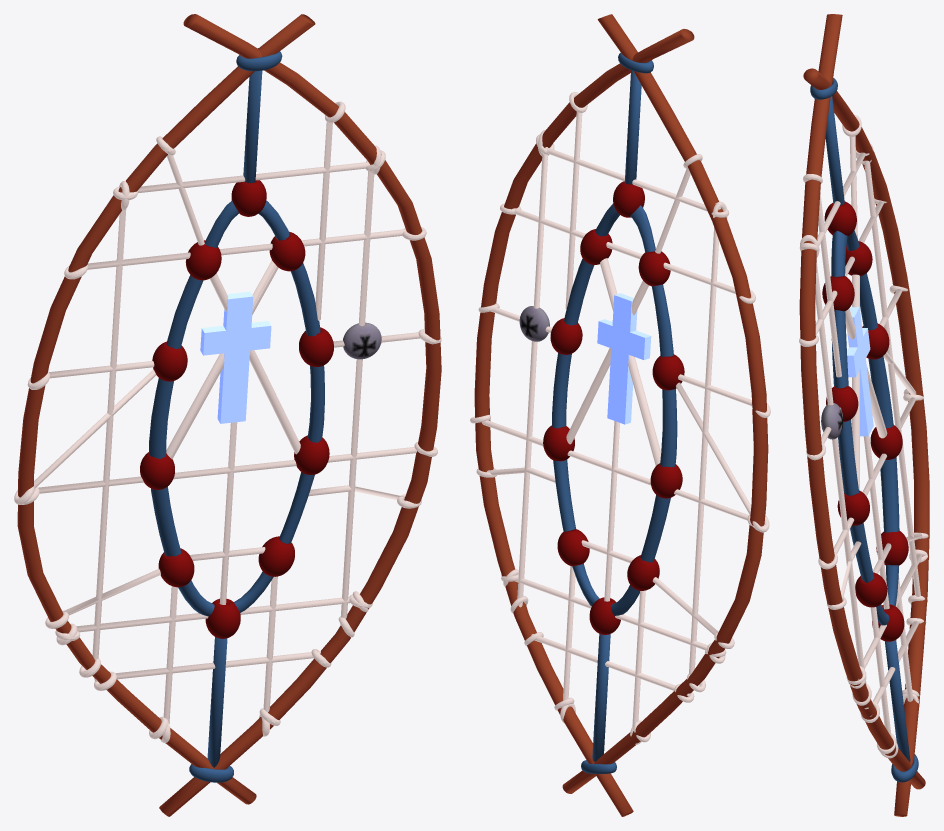
File: mapParis.glb
3 views of the same model, side by side, from view 1: azimuth 30°, elevation 25°; view 2: azimuth 150°, elevation 25°; view 3: azimuth 270°, elevation 25° (orthographic). The views are drawn at different scales.
Parts seen in each view (by area): view 1: GeometryNode_73, GeometryNode_56, GeometryNode_39, GeometryNode_5, GeometryNode_90, GeometryNode_22; view 2: GeometryNode_56, GeometryNode_73, GeometryNode_39, GeometryNode_5, GeometryNode_90, GeometryNode_22; view 3: GeometryNode_56, GeometryNode_73, GeometryNode_39, GeometryNode_5, GeometryNode_90, GeometryNode_22.
Boxes of the visible parts, left/top/right/bottom form: GeometryNode_73: left=14, top=101, right=441, bottom=742; GeometryNode_56: left=17, top=14, right=441, bottom=816; GeometryNode_39: left=149, top=48, right=324, bottom=782; GeometryNode_5: left=140, top=180, right=333, bottom=638; GeometryNode_90: left=200, top=291, right=271, bottom=423; GeometryNode_22: left=343, top=322, right=381, bottom=359; GeometryNode_56: left=474, top=14, right=768, bottom=816; GeometryNode_73: left=470, top=92, right=770, bottom=744; GeometryNode_39: left=552, top=52, right=677, bottom=773; GeometryNode_5: left=543, top=181, right=684, bottom=634; GeometryNode_90: left=597, top=293, right=651, bottom=424; GeometryNode_22: left=519, top=306, right=549, bottom=341; GeometryNode_56: left=799, top=14, right=929, bottom=816; GeometryNode_73: left=799, top=114, right=929, bottom=758; GeometryNode_39: left=810, top=78, right=918, bottom=782; GeometryNode_5: left=822, top=201, right=908, bottom=641; GeometryNode_90: left=847, top=306, right=873, bottom=436; GeometryNode_22: left=821, top=403, right=843, bottom=439.
Bounding box in the file's own units: 10.1 × 21.65 × 3.34.
Materials: 6 (1 with a texture image).
